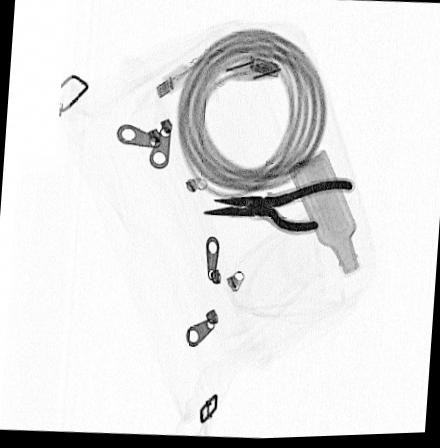Pliers: (198, 182, 352, 235)
